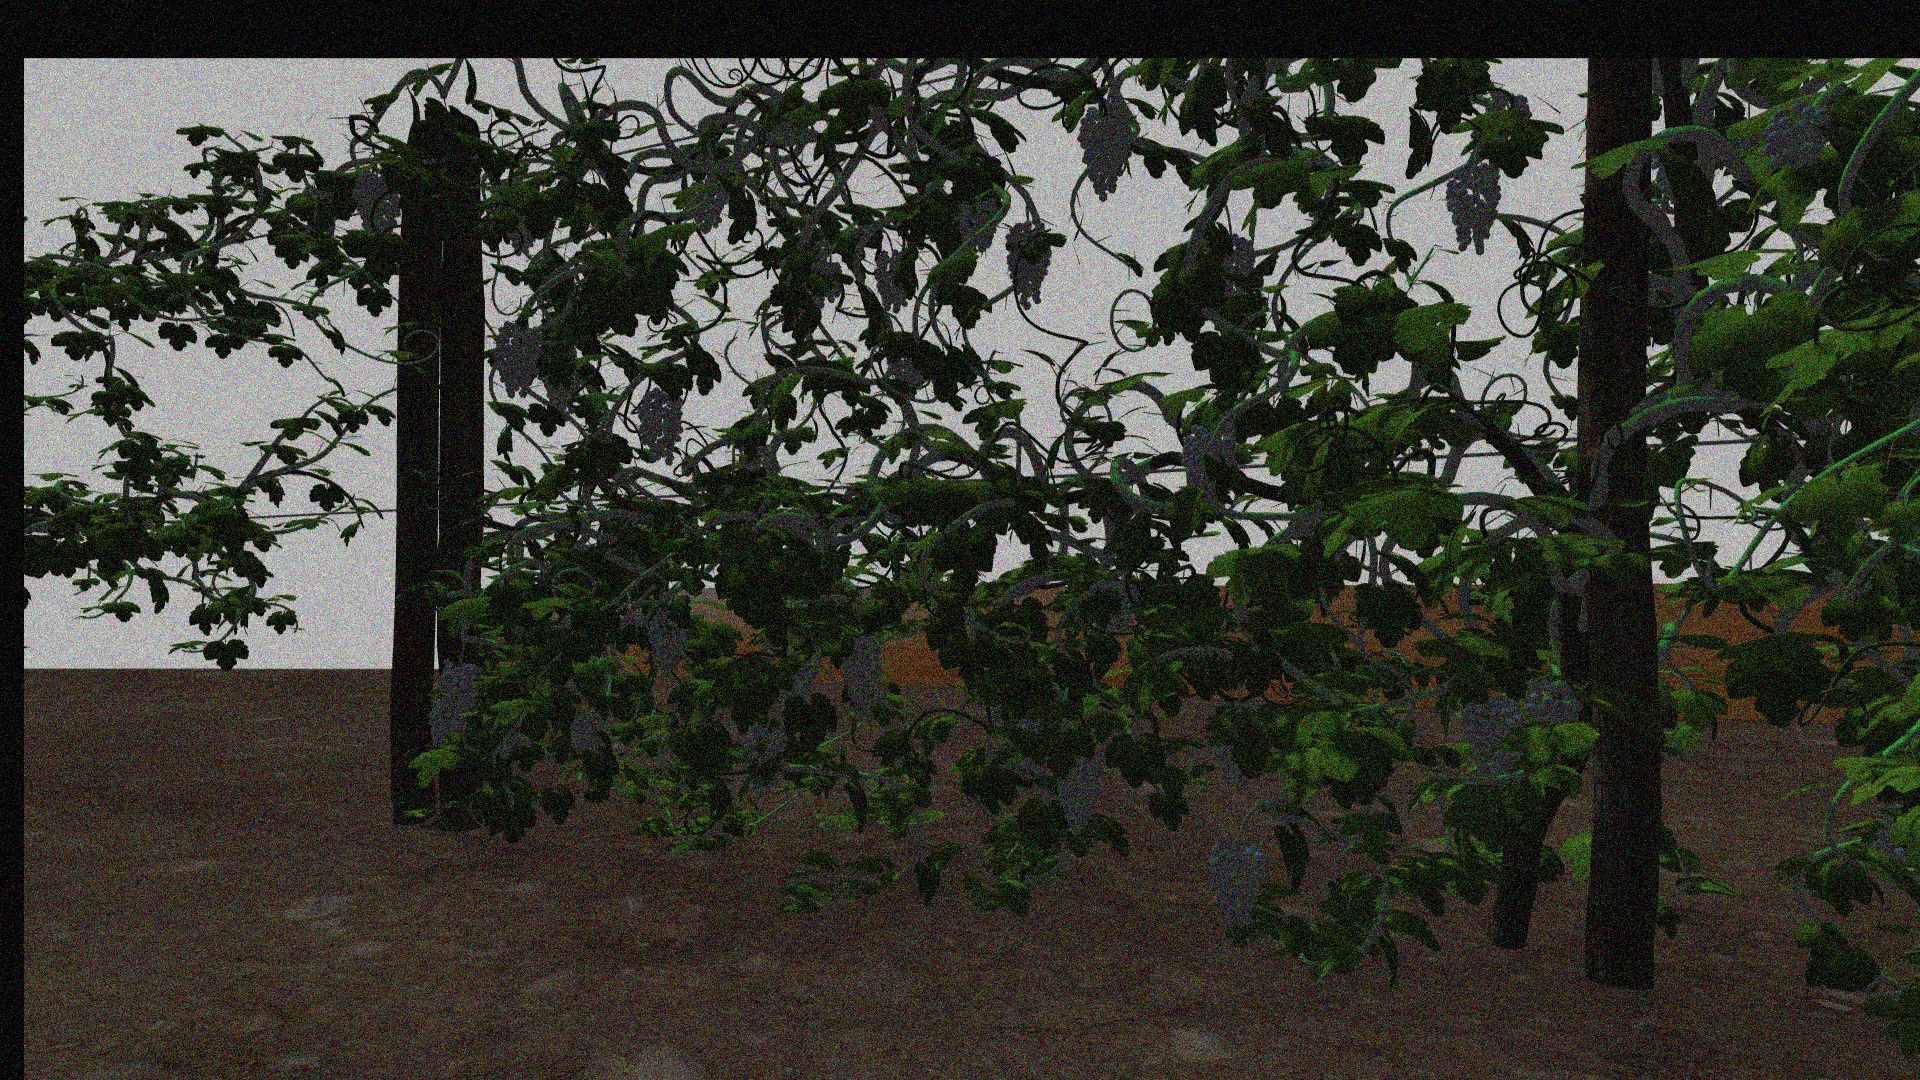grape: (1079, 102, 1135, 200), (1207, 839, 1267, 927), (1443, 167, 1501, 256), (1050, 746, 1106, 836), (1002, 220, 1054, 313), (1180, 429, 1238, 506), (1458, 698, 1520, 770), (1763, 103, 1830, 167), (491, 322, 541, 397), (637, 386, 684, 465), (348, 169, 402, 237), (840, 634, 885, 715), (645, 608, 692, 676), (956, 196, 1002, 257), (1522, 679, 1582, 724), (872, 251, 913, 314), (684, 175, 727, 233), (439, 659, 479, 719), (738, 723, 786, 766), (567, 709, 608, 753), (425, 708, 465, 746)
